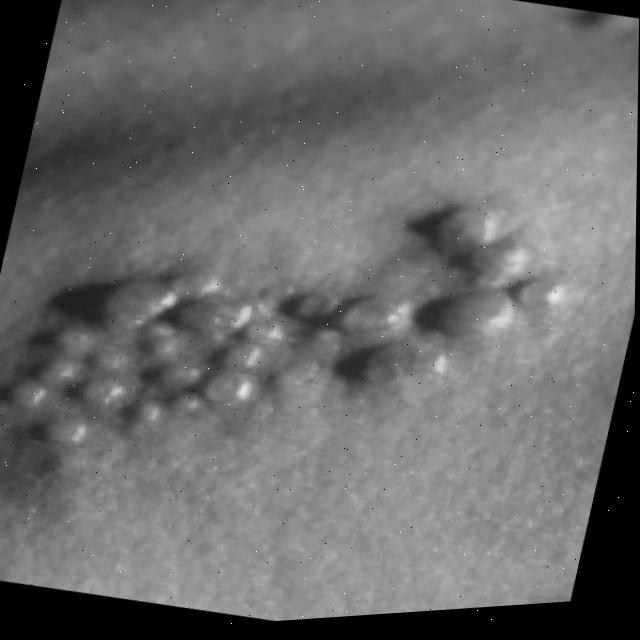Shingles: (0, 93, 574, 546)
